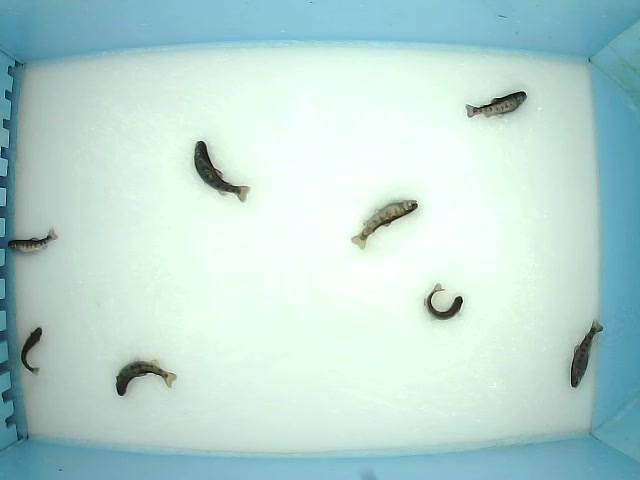fish: (193, 139, 252, 204), (350, 199, 419, 251), (115, 356, 178, 399), (569, 318, 605, 390), (464, 91, 528, 120), (422, 281, 465, 322), (7, 226, 59, 256), (20, 326, 44, 377)
